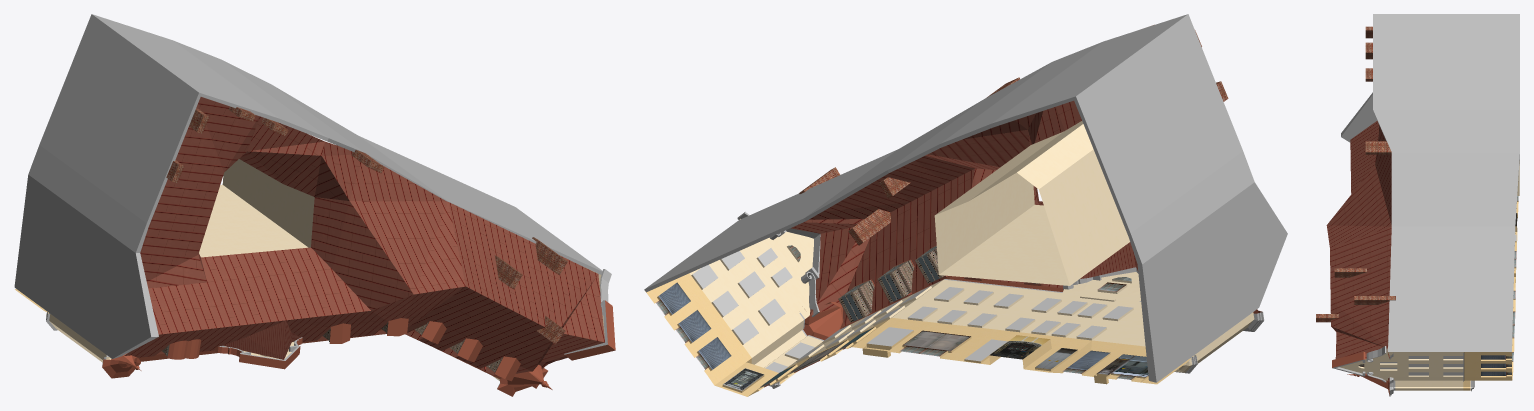
File: Pikk_27.obj
3 views of the same model, side by side, from view 1: azimuth 30°, elevation 25°; view 2: azimuth 150°, elevation 25°; view 3: azimuth 270°, elevation 25° (orthographic). The views are drawn at different scales.
Parts seen in each view (by area): view 1: p27; view 2: p27; view 3: p27.
Boxes of the visible parts, box(x1,y1,x2,y2) form: p27: box(14, 14, 615, 396); p27: box(644, 14, 1287, 396); p27: box(1316, 14, 1519, 396).
Size of the model in its own units: 43.09 by 31.89 by 21.97.
